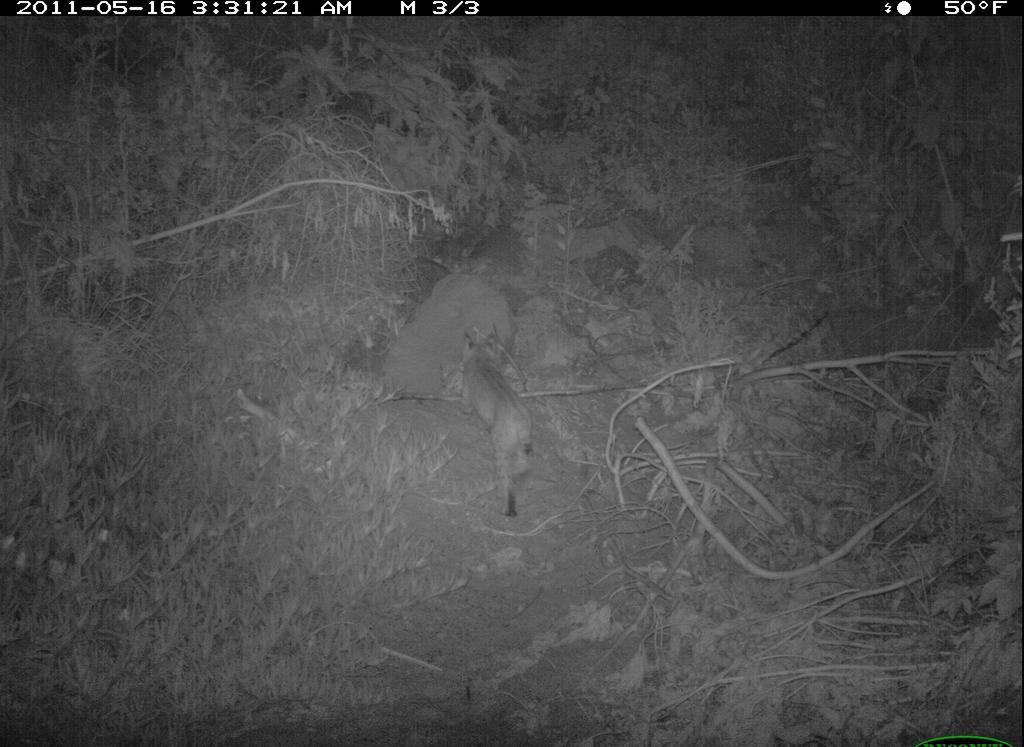bobcat: (417, 312, 592, 527)
